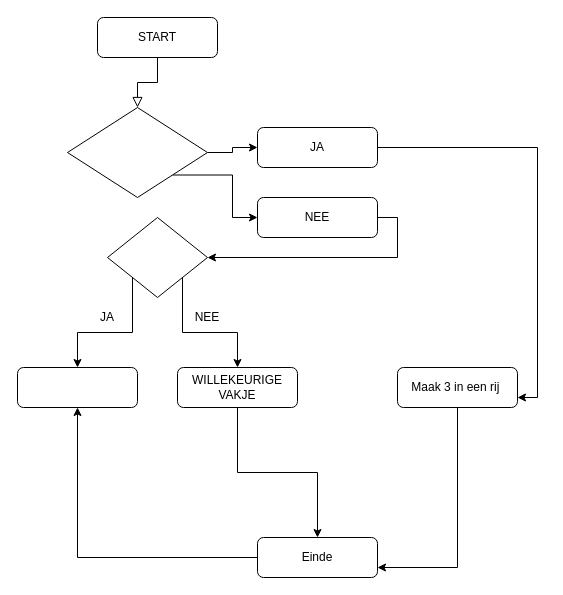
Some shapes in this 563 by 595 pixel diagram are drawn without their labels. The centre of each missing label's shape, as x and y in pixels:
Blokkeer tegenstander zet: point (77, 387)
kan de tegenstander 3 op een rij maken: point (157, 257)
Kan ik 3 op een rij maken: point (137, 152)
